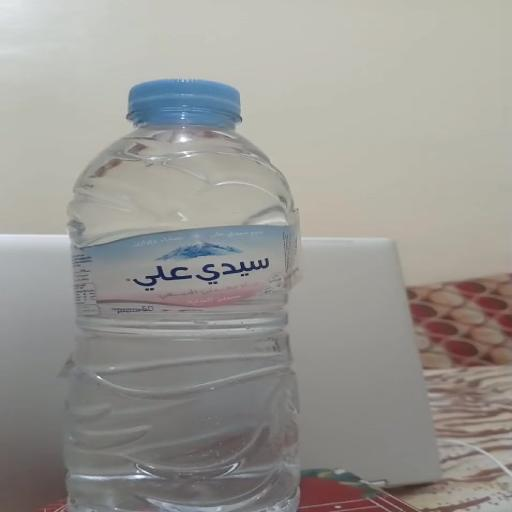bouteille conformite: (92, 60, 306, 512)
